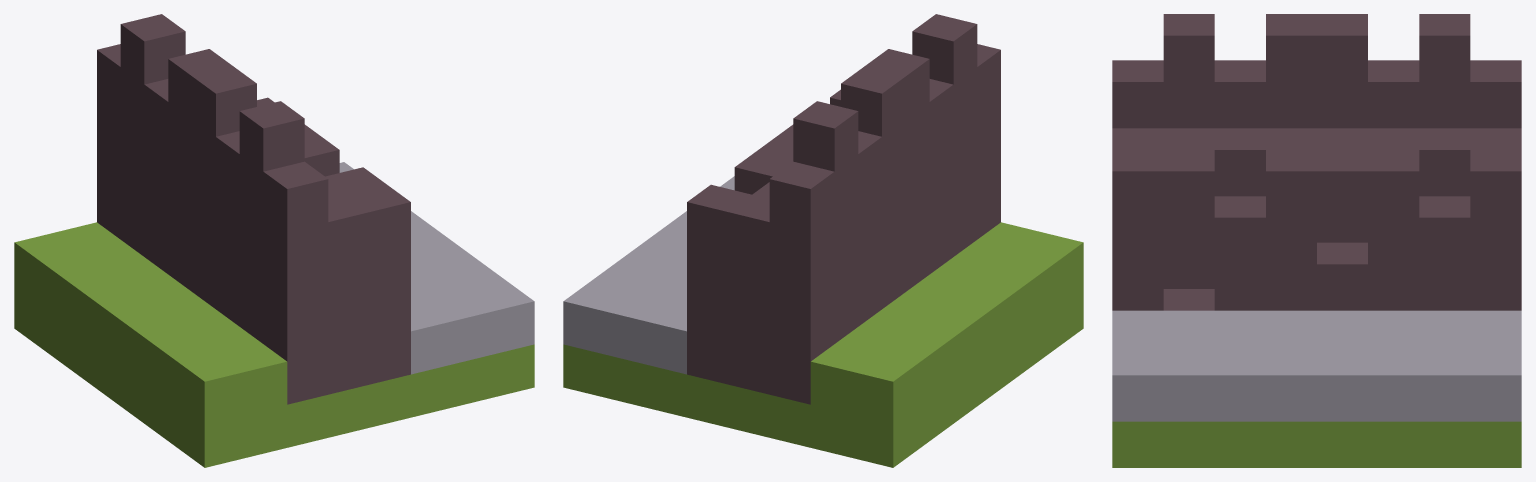
The model's file is wall.obj.
The picture shows the model from 3 angles, left to right: view 1: azimuth 30°, elevation 25°; view 2: azimuth 150°, elevation 25°; view 3: azimuth 270°, elevation 25°; orthographic projection. The views are drawn at different scales.
Size of the model in its own units: 0.8 by 0.7 by 0.8.
Materials: 1 (1 with a texture image).
